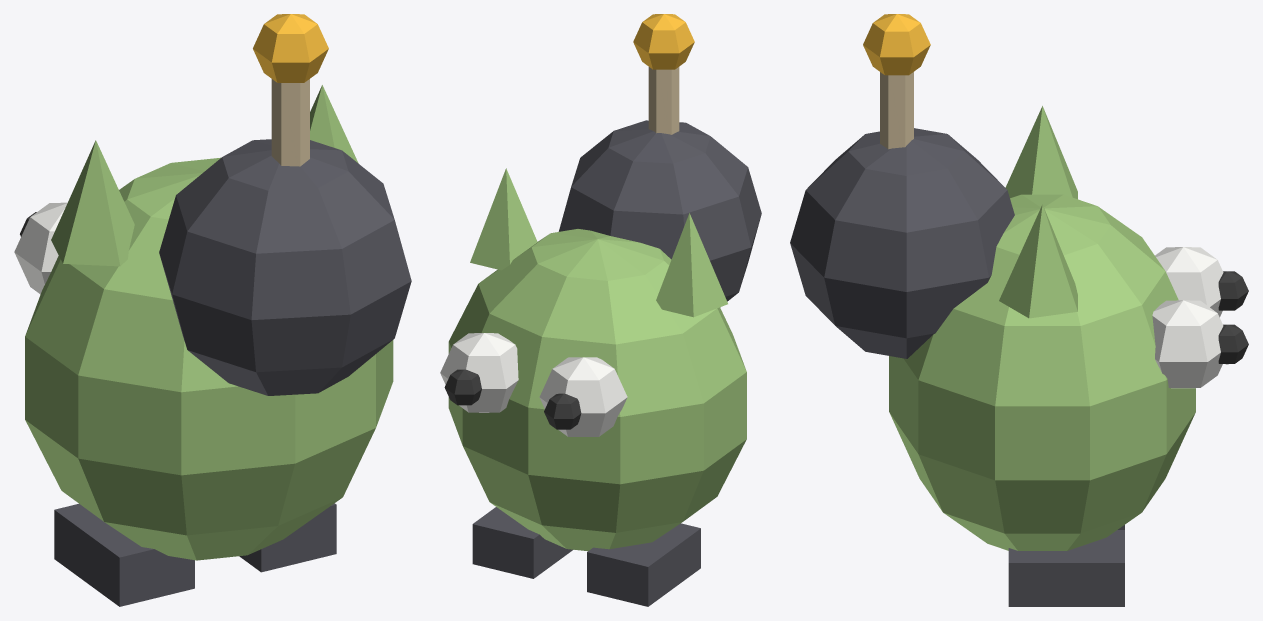
File: Bomber.fbx
3 renders of one model, left to right at view 1: azimuth 30°, elevation 25°; view 2: azimuth 150°, elevation 25°; view 3: azimuth 270°, elevation 25°, orthographic. The views are drawn at different scales.
Visible parts, largest first — view 1: Bomber; view 2: Bomber; view 3: Bomber.
Part boxes in pixels (bbox=[...]): Bomber: bbox=[14, 14, 411, 606]; Bomber: bbox=[440, 14, 761, 606]; Bomber: bbox=[790, 14, 1248, 606].
Bounding box in the file's own units: 0.6676 × 1.24 × 0.945.
